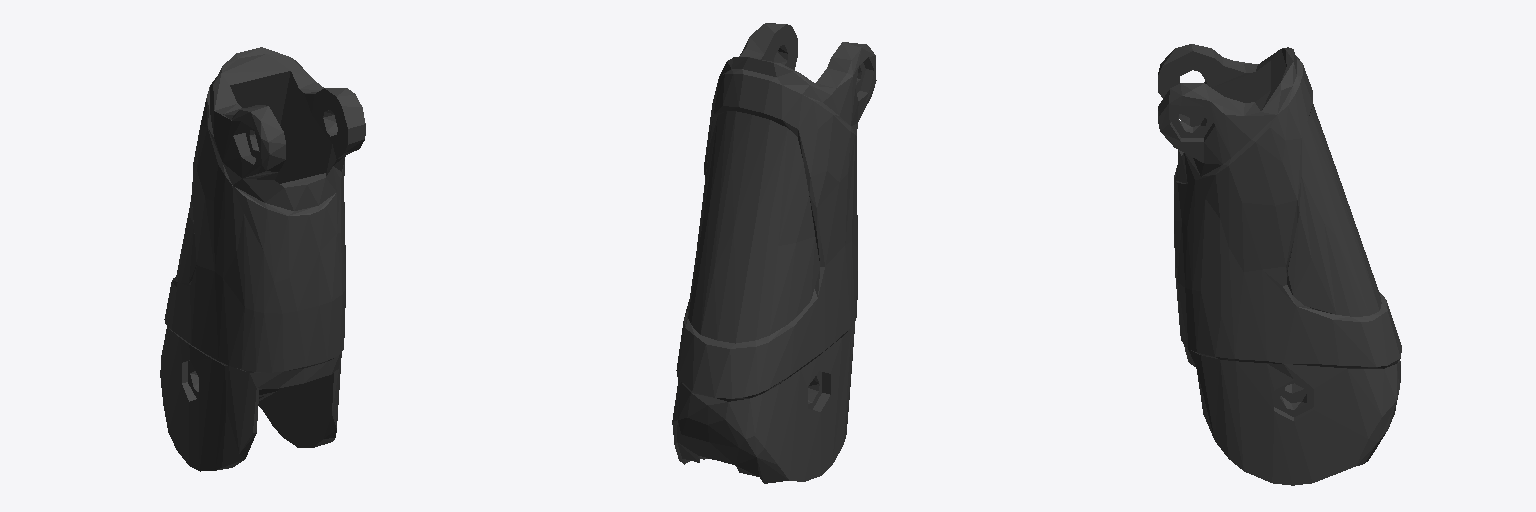
File: R_ring_proximal.obj
3 renders of one model, left to right at view 1: azimuth 30°, elevation 25°; view 2: azimuth 150°, elevation 25°; view 3: azimuth 270°, elevation 25°, orthographic.
Bounding box in the file's own units: 0.0143 × 0.0448 × 0.0247.